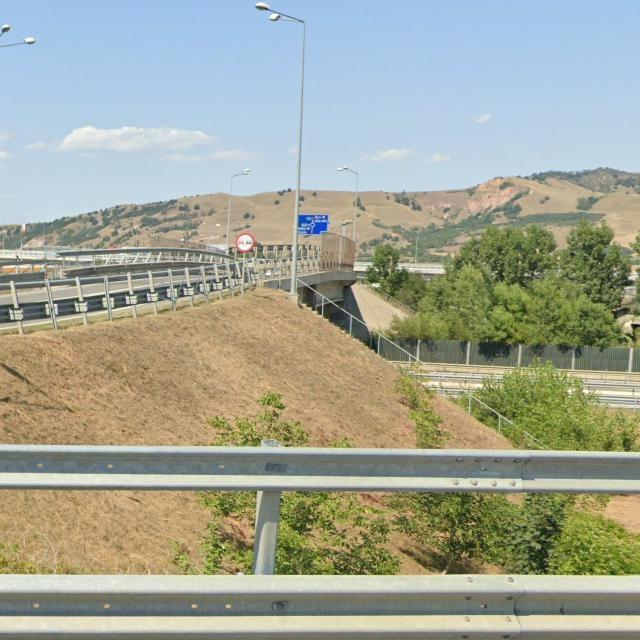forb_overtake: (236, 233, 255, 252)
